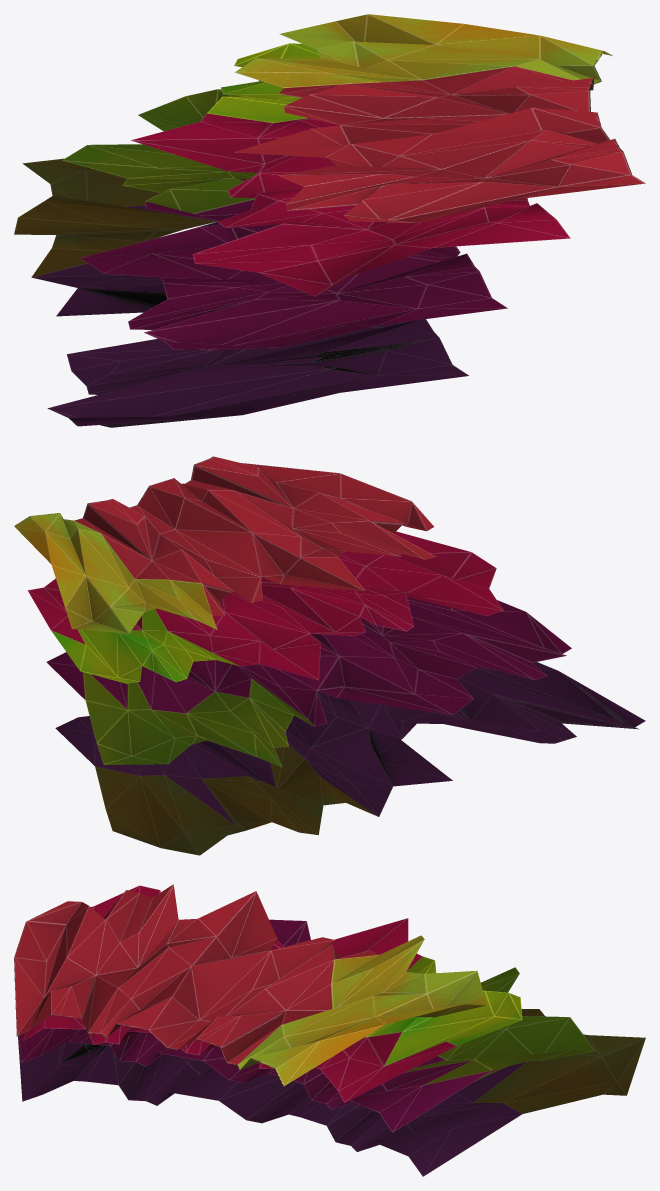
The model's file is Paroi_virage_R.fbx.
3 renders of one model, top to bottom at view 1: azimuth 30°, elevation 25°; view 2: azimuth 150°, elevation 25°; view 3: azimuth 270°, elevation 25°, orthographic. The views are drawn at different scales.
Visible parts, largest first — view 1: Paroi_04_R6, Paroi_02_R8, Paroi_01_R1, Paroi_04_R9, Paroi_03_R5, Paroi_03_R10, Paroi_04_R5, Paroi_01_R13, Paroi_02_R3, Paroi_04_R4, Paroi_03_R4, Paroi_01_R6 (+24 smaller); view 2: Paroi_04_R1, Paroi_04_R8, Paroi_04_R9, Paroi_02_R8, Paroi_03_R3, Paroi_02_R3, Paroi_03_R1, Paroi_03_R10, Paroi_03_R4, Paroi_04_R4, Paroi_04_R6, Paroi_01_R1 (+30 smaller); view 3: Paroi_04_R1, Paroi_04_R10, Paroi_01_R1, Paroi_03_R1, Paroi_01_R11, Paroi_01_R6, Paroi_03_R11, Paroi_01_R7, Paroi_01_R5, Paroi_02_R1, Paroi_02_R9, Paroi_01_R2 (+22 smaller).
Boxes of the visible parts, x1,y1,x2,y2 form: Paroi_04_R6: (47, 364, 377, 427); Paroi_02_R8: (192, 223, 431, 296); Paroi_01_R1: (389, 24, 613, 84); Paroi_04_R9: (14, 196, 217, 277); Paroi_03_R5: (144, 300, 416, 350); Paroi_03_R10: (62, 144, 258, 213); Paroi_04_R5: (242, 319, 468, 414); Paroi_01_R13: (385, 66, 594, 118); Paroi_02_R3: (131, 113, 336, 172); Paroi_04_R4: (48, 288, 437, 417); Paroi_03_R4: (128, 278, 338, 332); Paroi_01_R6: (288, 178, 558, 222); Paroi_04_R1: (95, 766, 245, 855); Paroi_04_R8: (305, 716, 452, 816); Paroi_04_R9: (202, 746, 377, 835); Paroi_02_R8: (356, 531, 503, 615); Paroi_03_R3: (323, 634, 473, 714); Paroi_02_R3: (168, 593, 320, 680); Paroi_03_R1: (83, 672, 206, 764); Paroi_03_R10: (152, 679, 313, 767); Paroi_03_R4: (383, 617, 566, 679); Paroi_04_R4: (368, 694, 638, 743); Paroi_04_R6: (457, 668, 645, 728); Paroi_01_R1: (14, 513, 134, 587); Paroi_04_R1: (473, 1034, 645, 1113); Paroi_04_R10: (351, 1062, 526, 1176); Paroi_01_R1: (237, 996, 384, 1086); Paroi_03_R1: (406, 1016, 595, 1084); Paroi_01_R11: (190, 891, 277, 1019); Paroi_01_R6: (14, 892, 124, 997); Paroi_03_R11: (326, 1056, 491, 1132); Paroi_01_R7: (14, 957, 95, 1036); Paroi_01_R5: (81, 948, 190, 1037); Paroi_02_R1: (384, 990, 522, 1066); Paroi_02_R9: (315, 1032, 456, 1102); Paroi_01_R2: (372, 970, 486, 1017).
Bounding box in the file's own units: 39.87 × 11.1 × 35.02.
